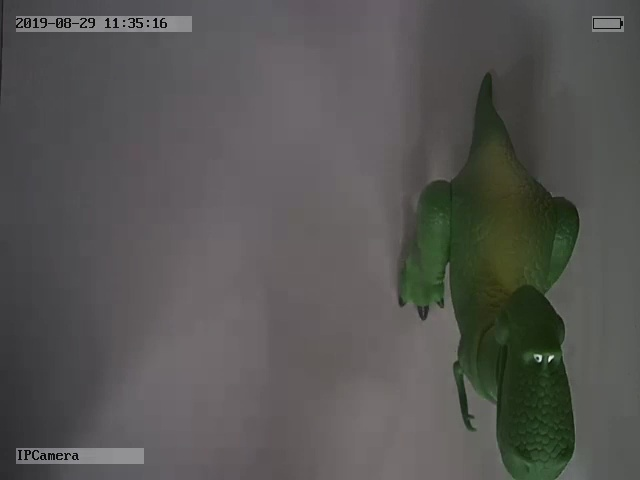rex: (396, 72, 583, 480)
